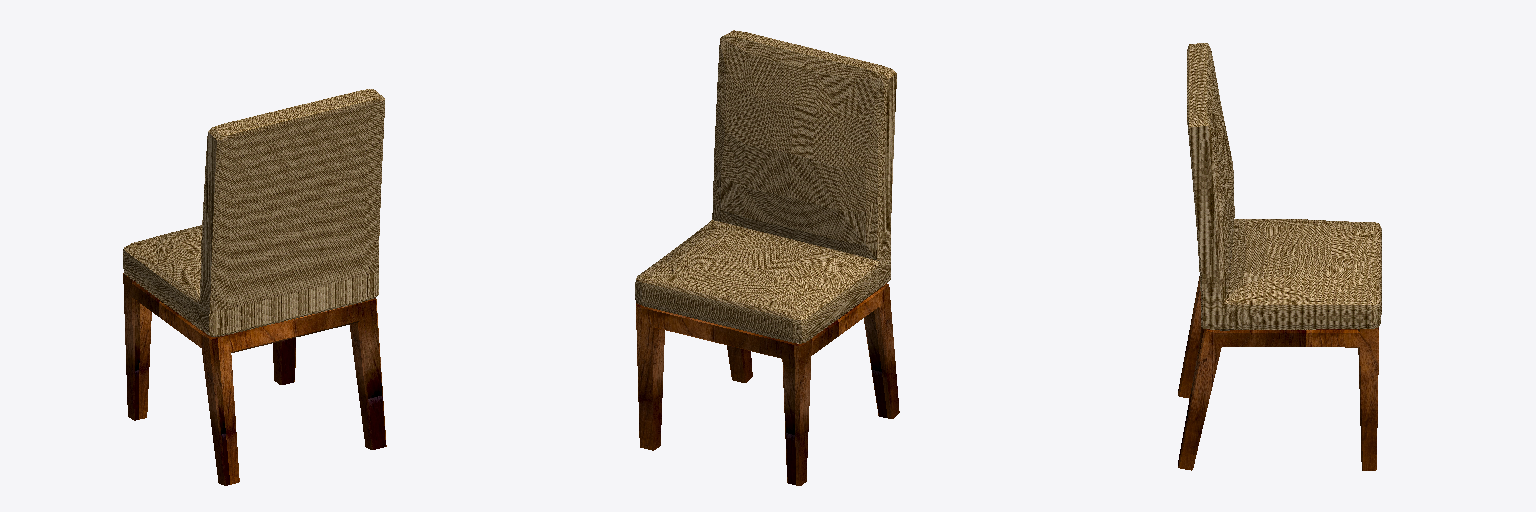
3 renders of one model, left to right at view 1: azimuth 30°, elevation 25°; view 2: azimuth 150°, elevation 25°; view 3: azimuth 270°, elevation 25°, orthographic.
Parts seen in each view (by area): view 1: Box[number redacted], Loft995, Loft994, Rectangl016; view 2: Box[number redacted], Loft994, Loft995, Rectangl016; view 3: Box[number redacted], Loft995, Rectangl015, Loft994.
Part boxes in pixels (bbox=[...]): Box[number redacted]: bbox=[123, 89, 384, 336]; Loft995: bbox=[202, 298, 386, 485]; Loft994: bbox=[123, 273, 295, 420]; Rectangl016: bbox=[131, 282, 210, 352]; Box[number redacted]: bbox=[635, 30, 896, 343]; Loft994: bbox=[636, 303, 811, 485]; Loft995: bbox=[727, 283, 899, 418]; Rectangl016: bbox=[811, 284, 887, 355]; Box[number redacted]: bbox=[1187, 43, 1381, 330]; Loft995: bbox=[1178, 276, 1221, 470]; Rectangl015: bbox=[1207, 329, 1360, 347]; Loft994: bbox=[1358, 327, 1378, 470].
Size of the model in its own units: 0.5459 by 1.06 by 0.5586.
2 materials, 2 textured.